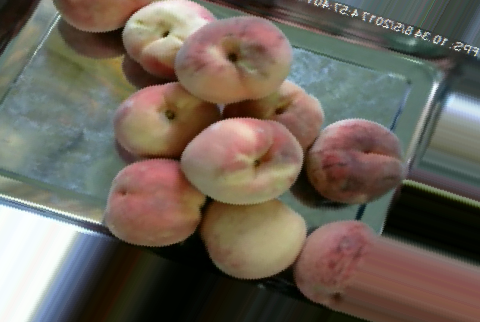Peach: (178, 115, 303, 208), (175, 14, 288, 101), (104, 156, 207, 248), (200, 196, 308, 280), (114, 79, 221, 161), (304, 119, 403, 205), (123, 1, 219, 79)
